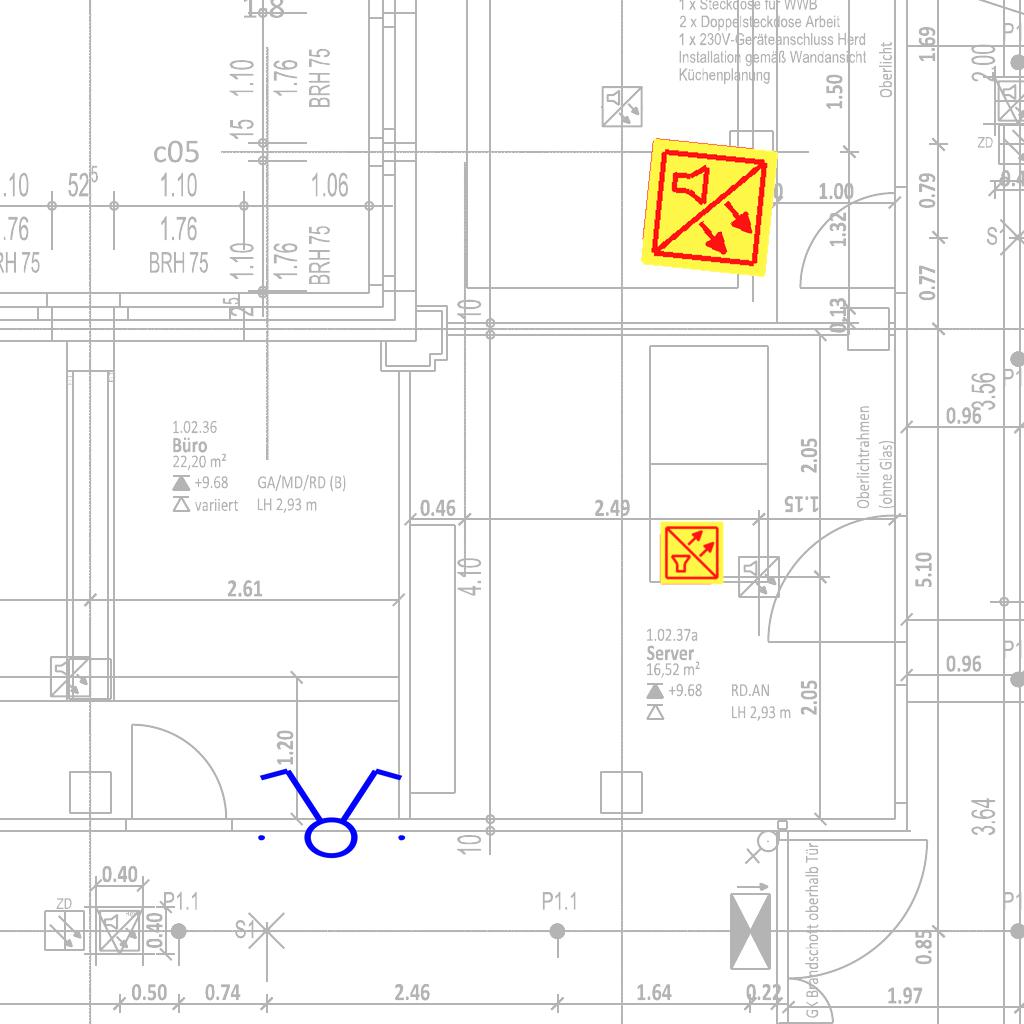OKW_Multisensormelder_(Kombination_optischer_Rauch-Kahlenmonoxid_Waerme-Melder): (636, 135, 782, 281), (659, 520, 725, 586)
Serienschalter: (246, 764, 414, 860)
